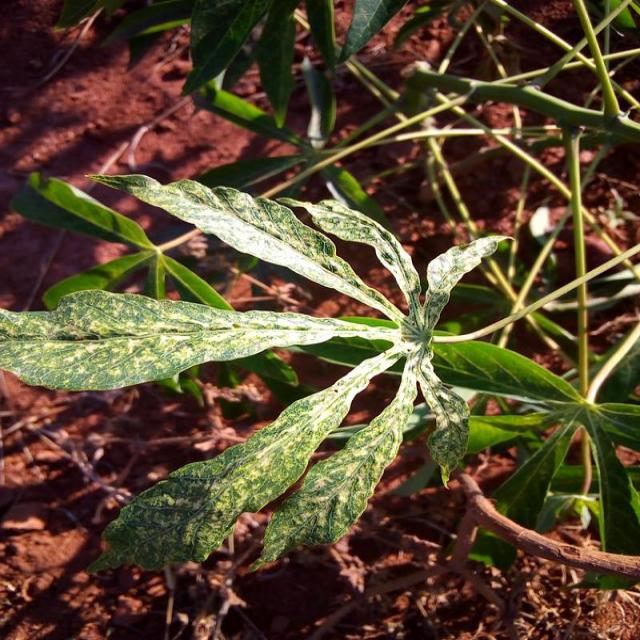cassava leaf: (2, 168, 634, 579)
